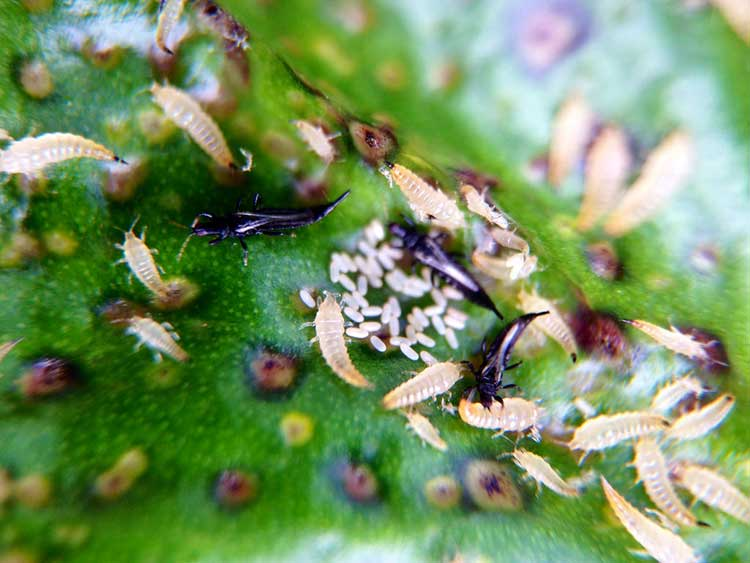Thrips: (187, 169, 372, 266), (141, 75, 258, 193), (299, 284, 372, 400), (4, 123, 116, 191), (383, 157, 459, 234), (499, 442, 581, 506), (474, 320, 518, 407)
